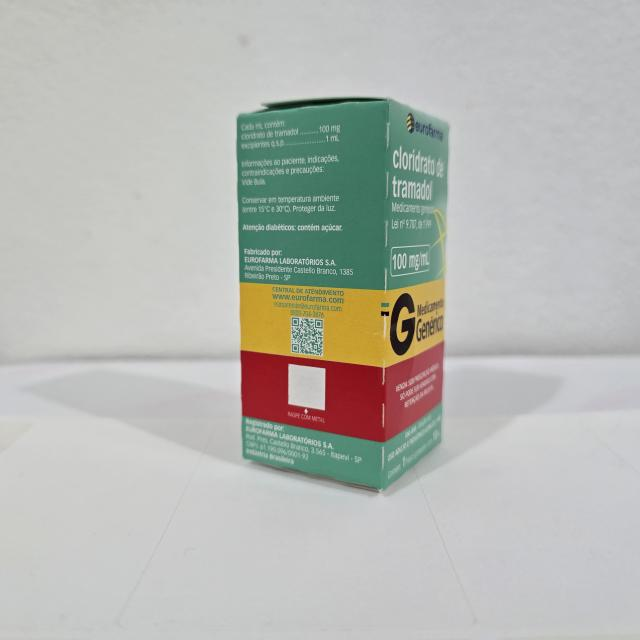tramadol: (232, 94, 446, 496)
